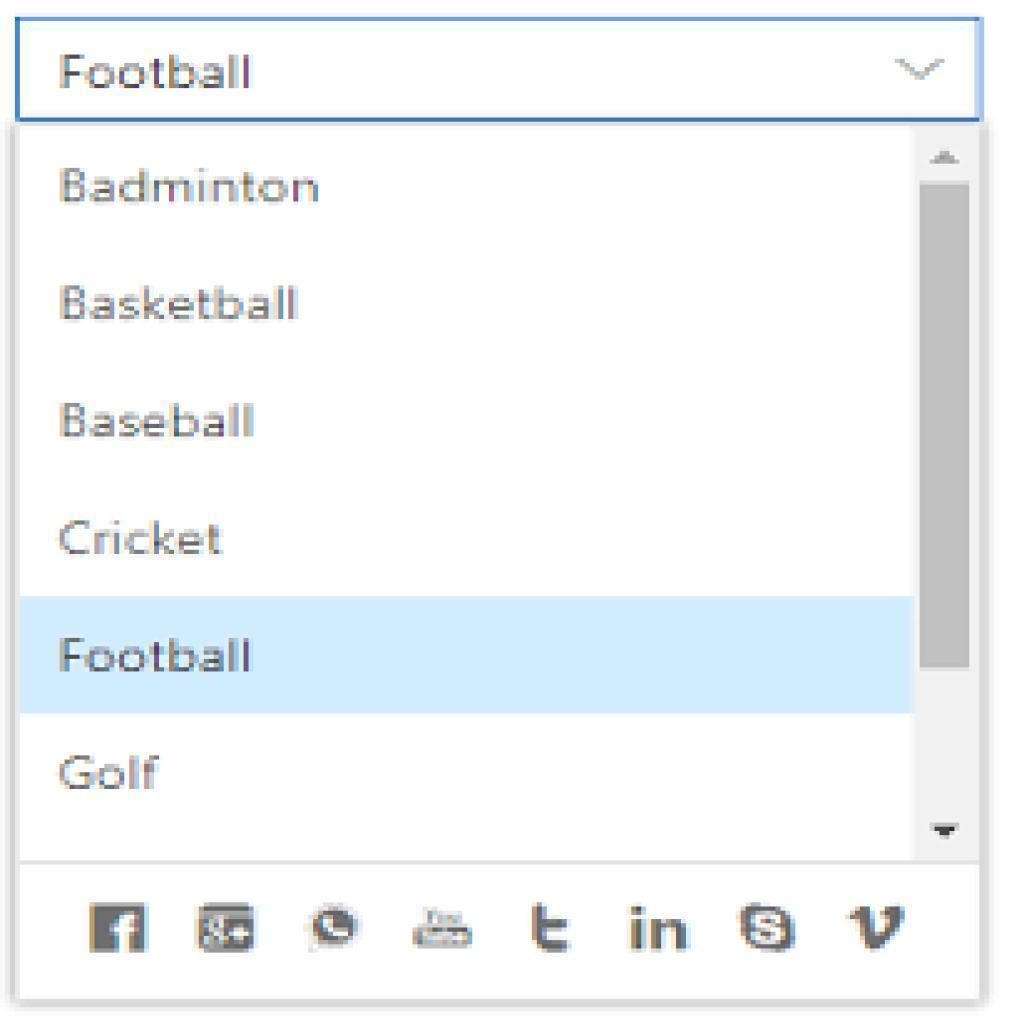dropdown: (15, 19, 978, 117)
icon: (293, 891, 381, 970), (70, 892, 165, 962), (186, 890, 267, 968), (394, 895, 488, 959), (619, 898, 697, 966), (847, 899, 923, 960), (744, 900, 813, 966), (521, 900, 577, 964)
